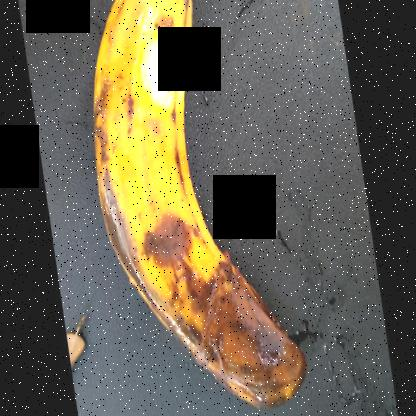rotten: (72, 1, 305, 403)
